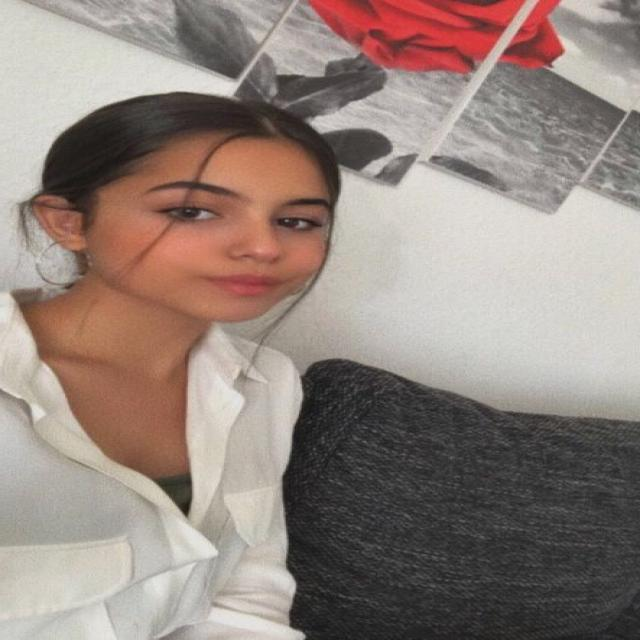earlobe: (31, 195, 88, 252)
